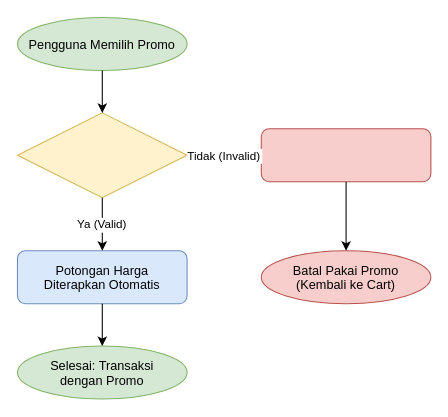
The diagram is 448 pixels wide and 417 high, and some of its shapes have lost their labels. The shapes that lost their labels are listed below. From the top down, each one's centre as x and y in pixels, then its label:
pixel 101 155: Syarat & Ketentuan Valid?
pixel 345 155: Tampilkan Error (Syarat Tidak Terpenuhi)
